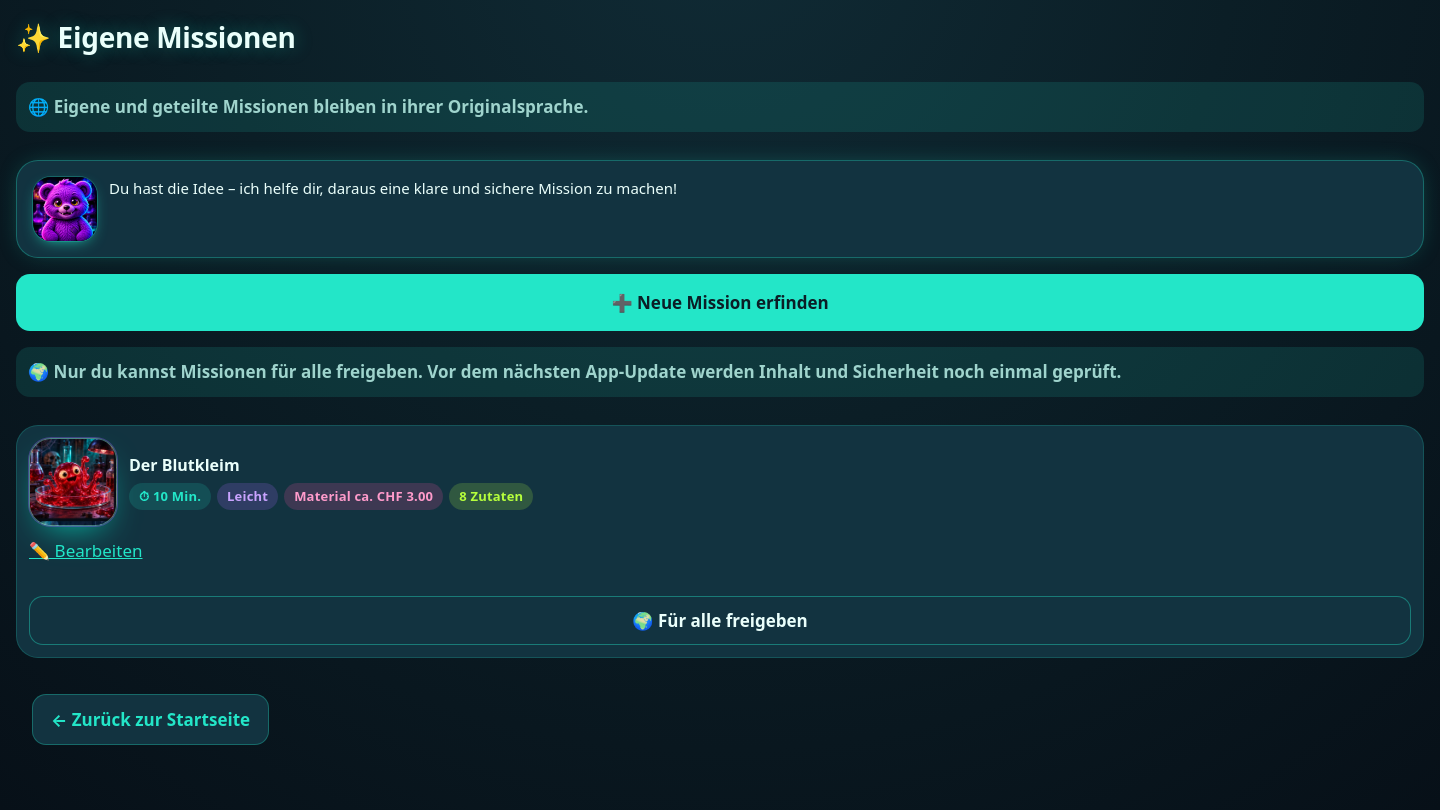
Test: Elenas Missionsfreigabe › ersetzt den privaten Testlink durch die Freigabe für alle
The image size is (1440, 810).
Click the button "🌍 Für alle freigeben".
click(720, 620)  # box x1=29 y1=596 x2=1411 y2=644
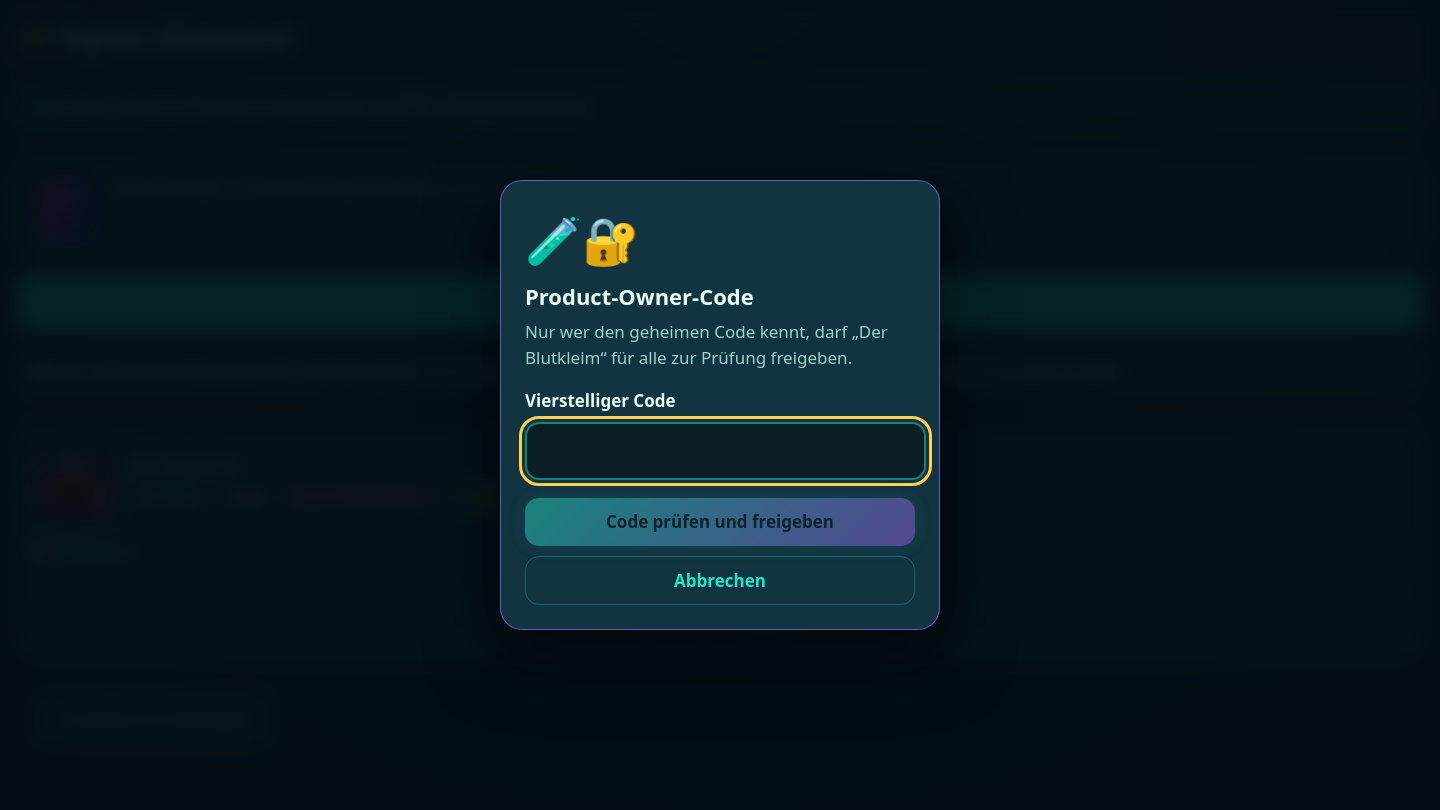
Check: the dialog "Product-Owner-Code" is shown
Type "4002" into the password field labelled "Vierstelliger Code".
click(726, 451); type("4002")  # box x1=525 y1=422 x2=926 y2=480
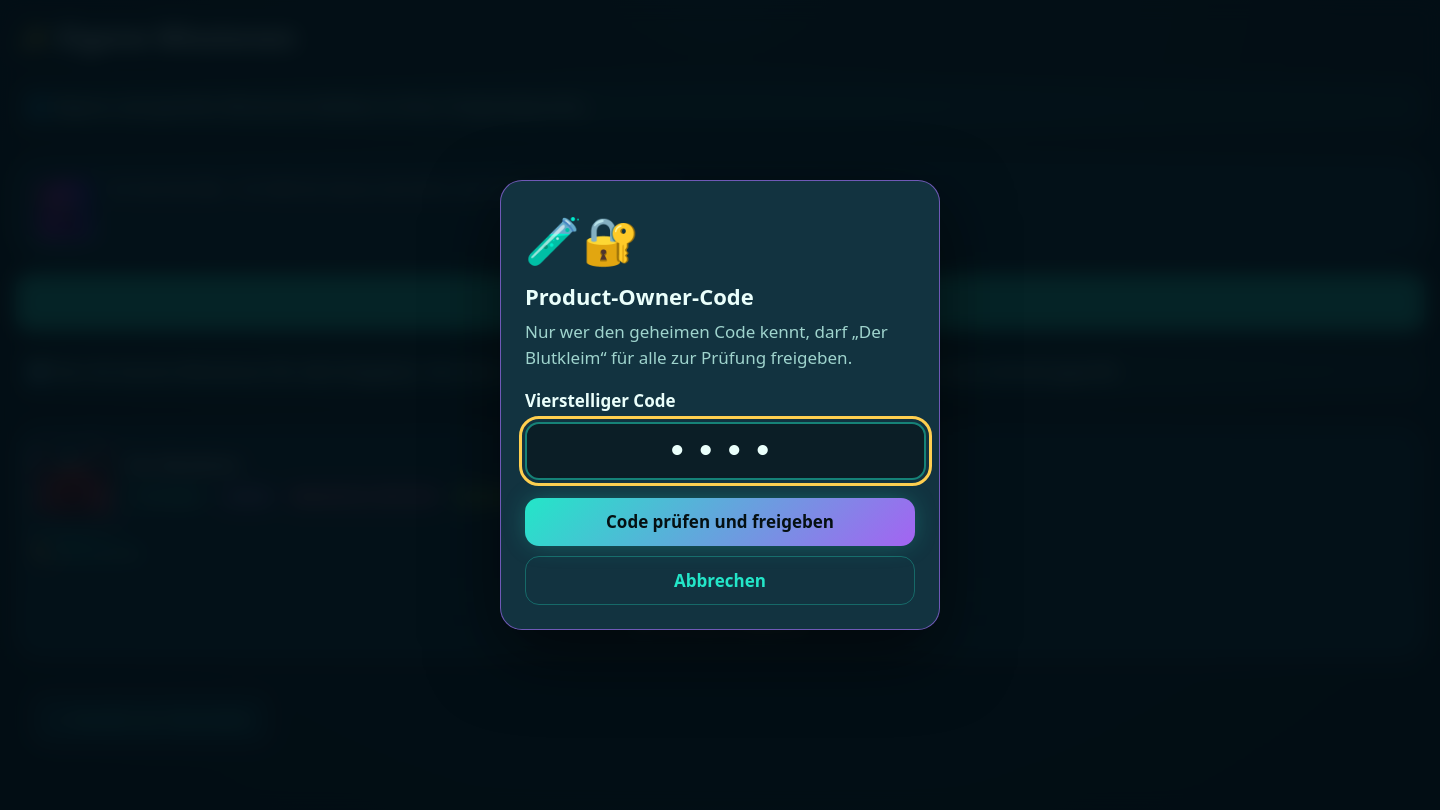
Click the button "Code prüfen und freigeben".
click(720, 522)  # box x1=525 y1=498 x2=915 y2=546
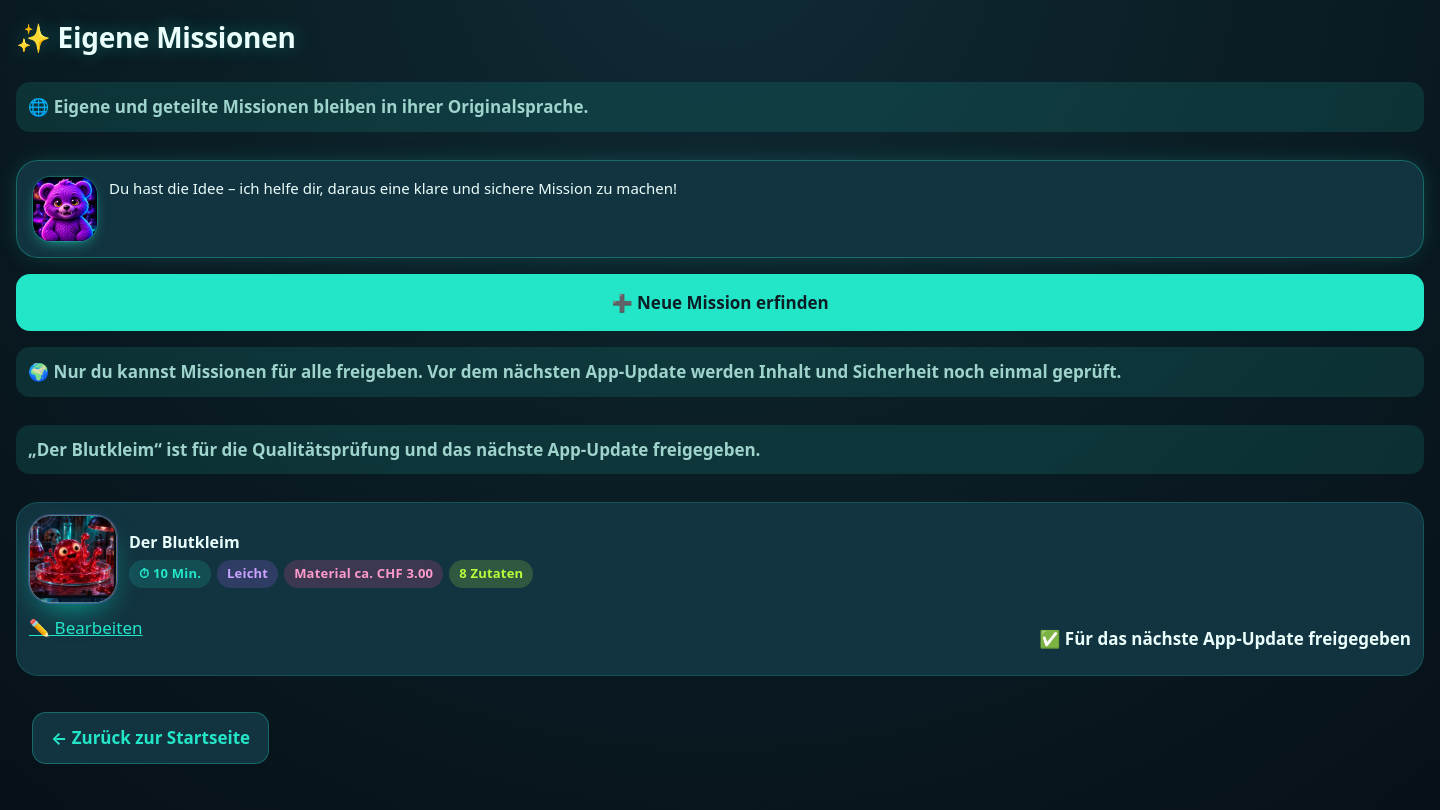
Check: the text "✅ Für das nächste App-Update freigegeben" is shown, box x1=1039 y1=626 x2=1411 y2=652
